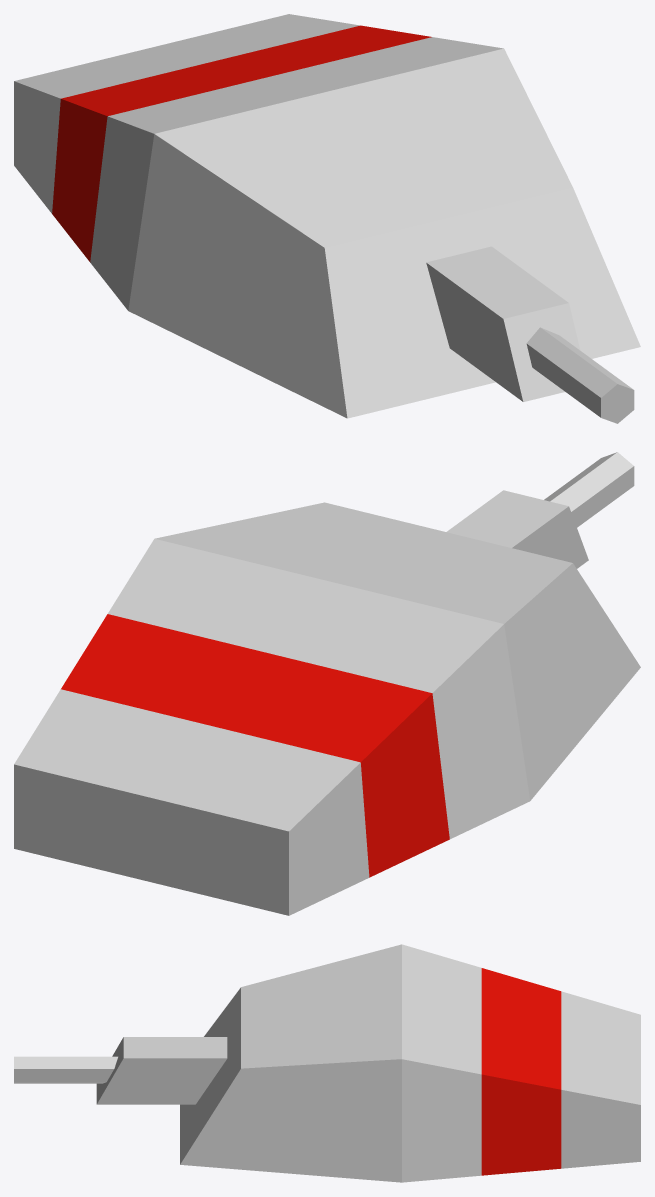
Rendered from TurretMachinegun.fbx.
The picture shows the model from 3 angles, top to bottom: view 1: azimuth 30°, elevation 25°; view 2: azimuth 150°, elevation 25°; view 3: azimuth 270°, elevation 25°; orthographic projection. The views are drawn at different scales.
Visible parts, largest first — view 1: TurretMachinegun; view 2: TurretMachinegun; view 3: TurretMachinegun.
Part boxes in pixels (left/top/right/bottom): TurretMachinegun: left=14, top=14, right=640, bottom=423; TurretMachinegun: left=14, top=452, right=640, bottom=915; TurretMachinegun: left=14, top=944, right=640, bottom=1182.
Size of the model in its own units: 21.08 by 8.56 by 42.33.
